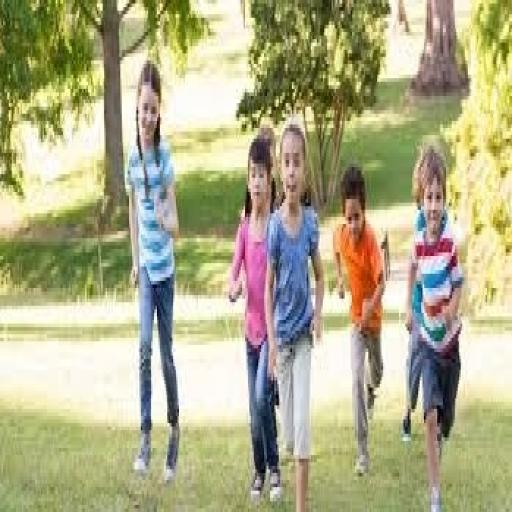running: (124, 57, 184, 491), (263, 118, 327, 508), (400, 138, 466, 508), (226, 132, 283, 508), (330, 160, 390, 484)
